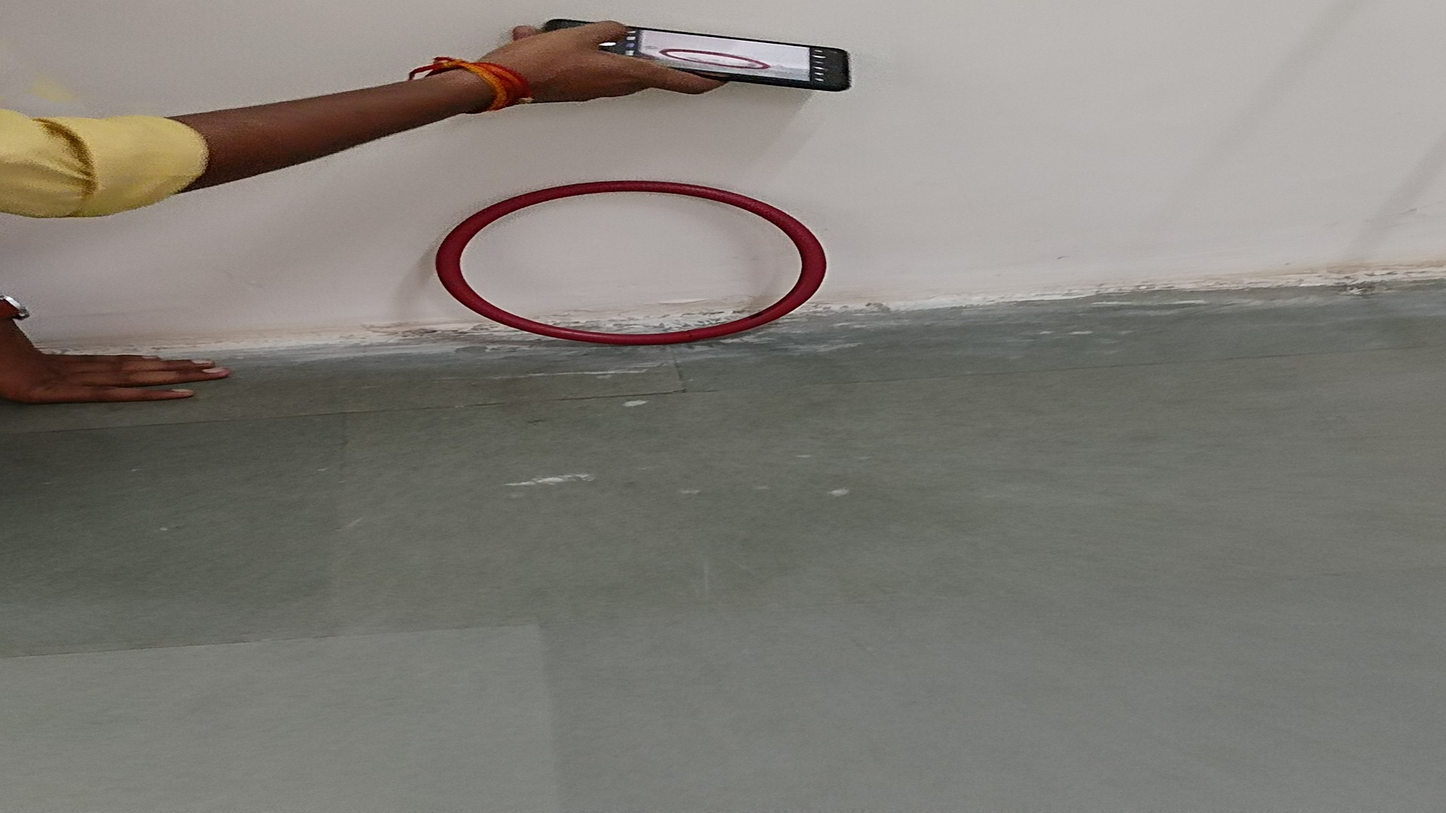Red ring: (435, 182, 829, 349)
